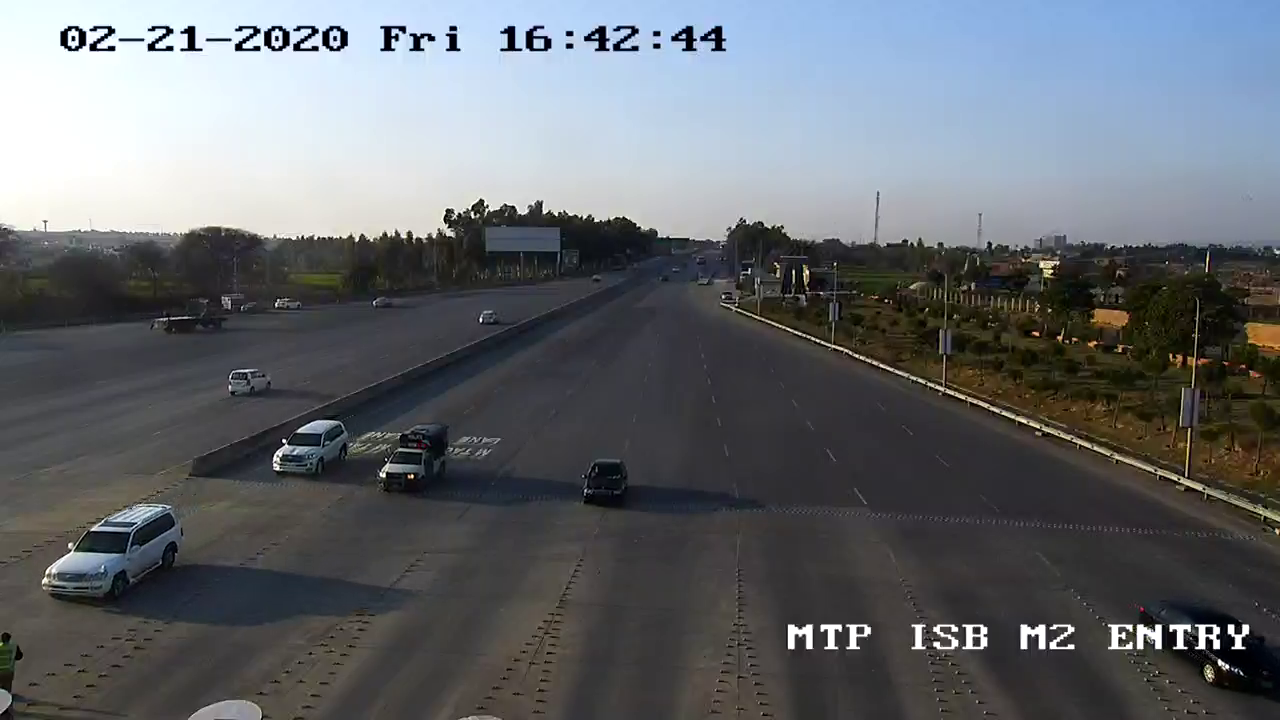f1: (29, 497, 189, 615), (362, 416, 469, 506), (263, 411, 354, 492), (571, 452, 637, 520)
